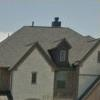Chimney: (48, 13, 70, 33)
